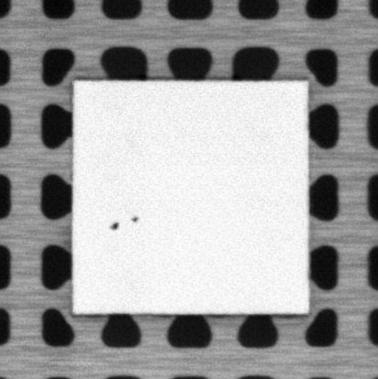DIE_INK: (107, 219, 123, 233), (128, 214, 142, 225)
